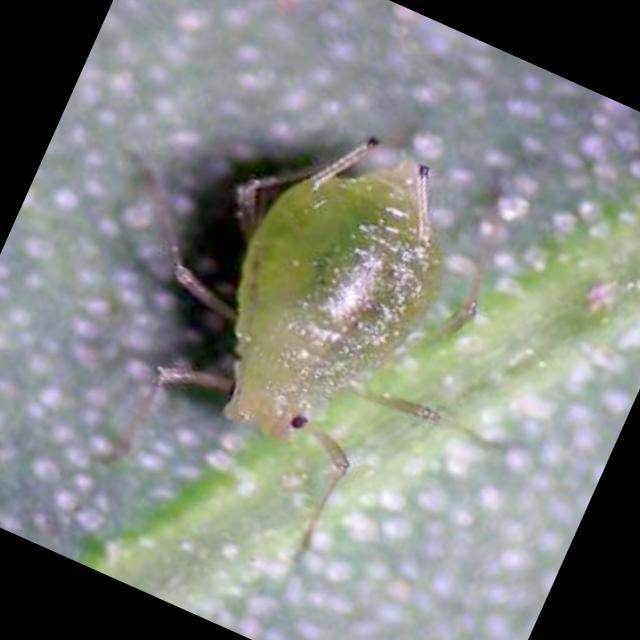Green peach aphid: (32, 8, 622, 626)
